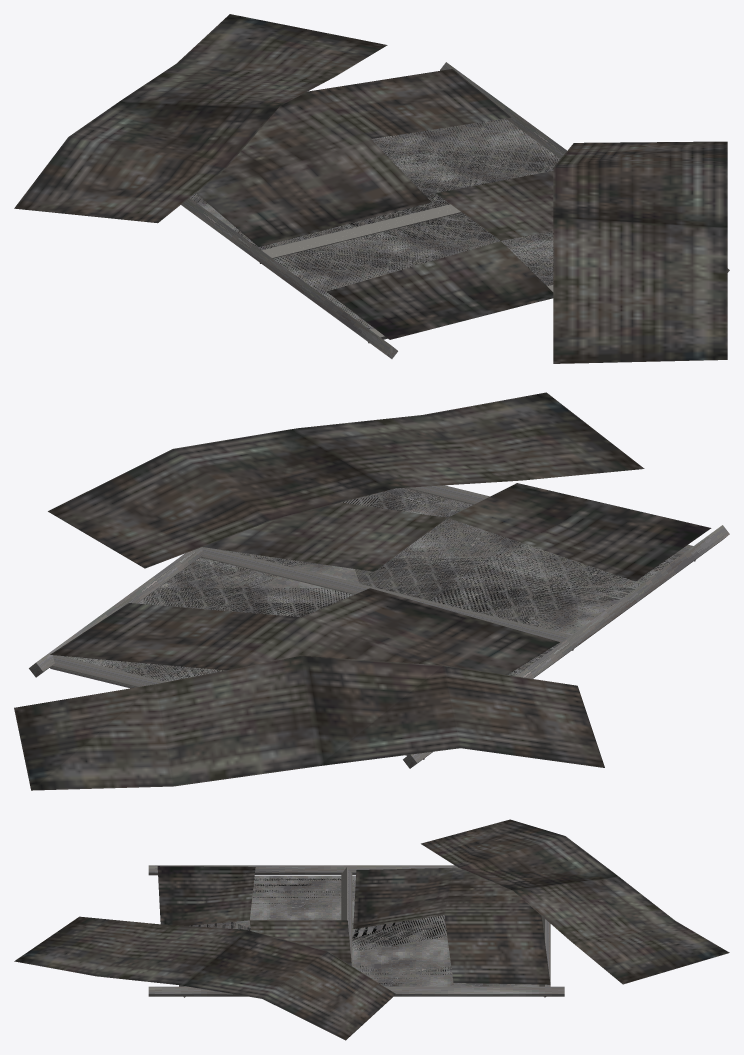
File: cj_urb_rub_1.obj
3 views of the same model, one above another, from view 1: azimuth 30°, elevation 25°; view 2: azimuth 150°, elevation 25°; view 3: azimuth 270°, elevation 25° (orthographic). The views are drawn at different scales.
Visible parts, largest first — view 1: CJ_urb_rub_1; view 2: CJ_urb_rub_1; view 3: CJ_urb_rub_1.
Boxes of the visible parts, x1=… form: CJ_urb_rub_1: x1=14, y1=14, x2=729, y2=363; CJ_urb_rub_1: x1=14, y1=392, x2=729, y2=790; CJ_urb_rub_1: x1=14, y1=819, x2=729, y2=1040.
Bounding box in the file's own units: 3.22 × 0.2294 × 4.41.
Materials: 4 (4 with a texture image).
